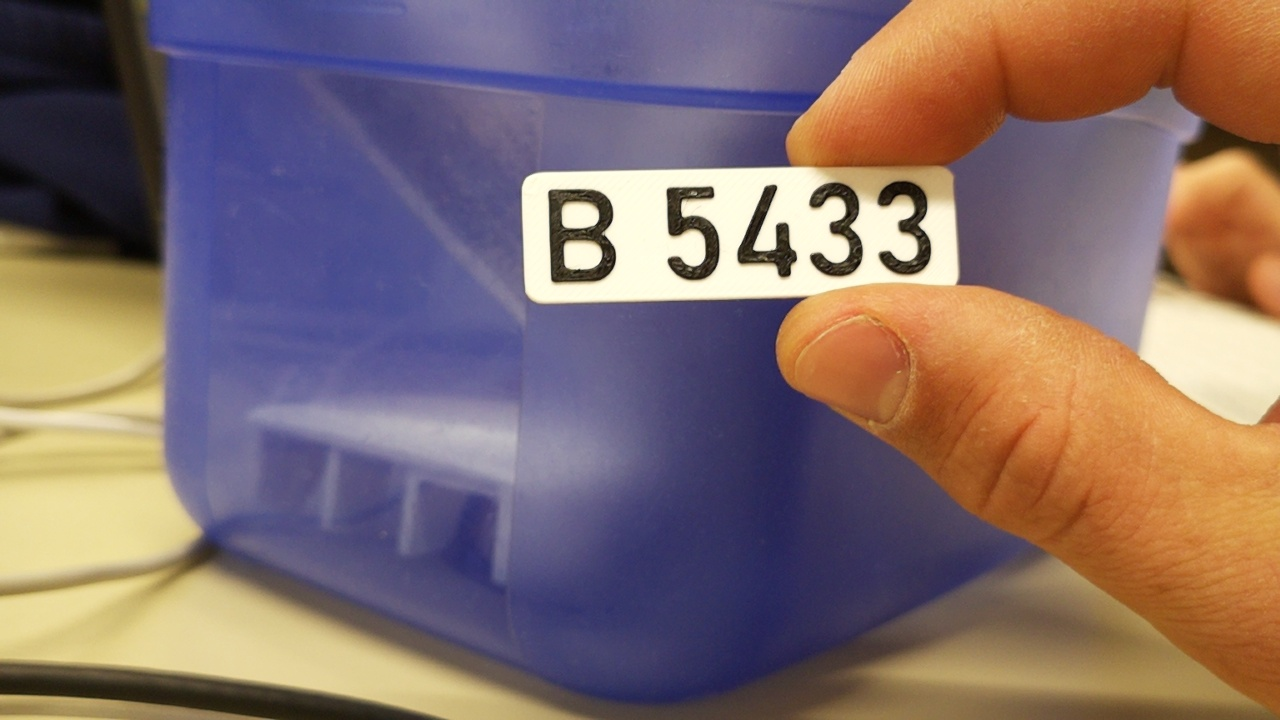license_plate: (518, 161, 962, 309)
